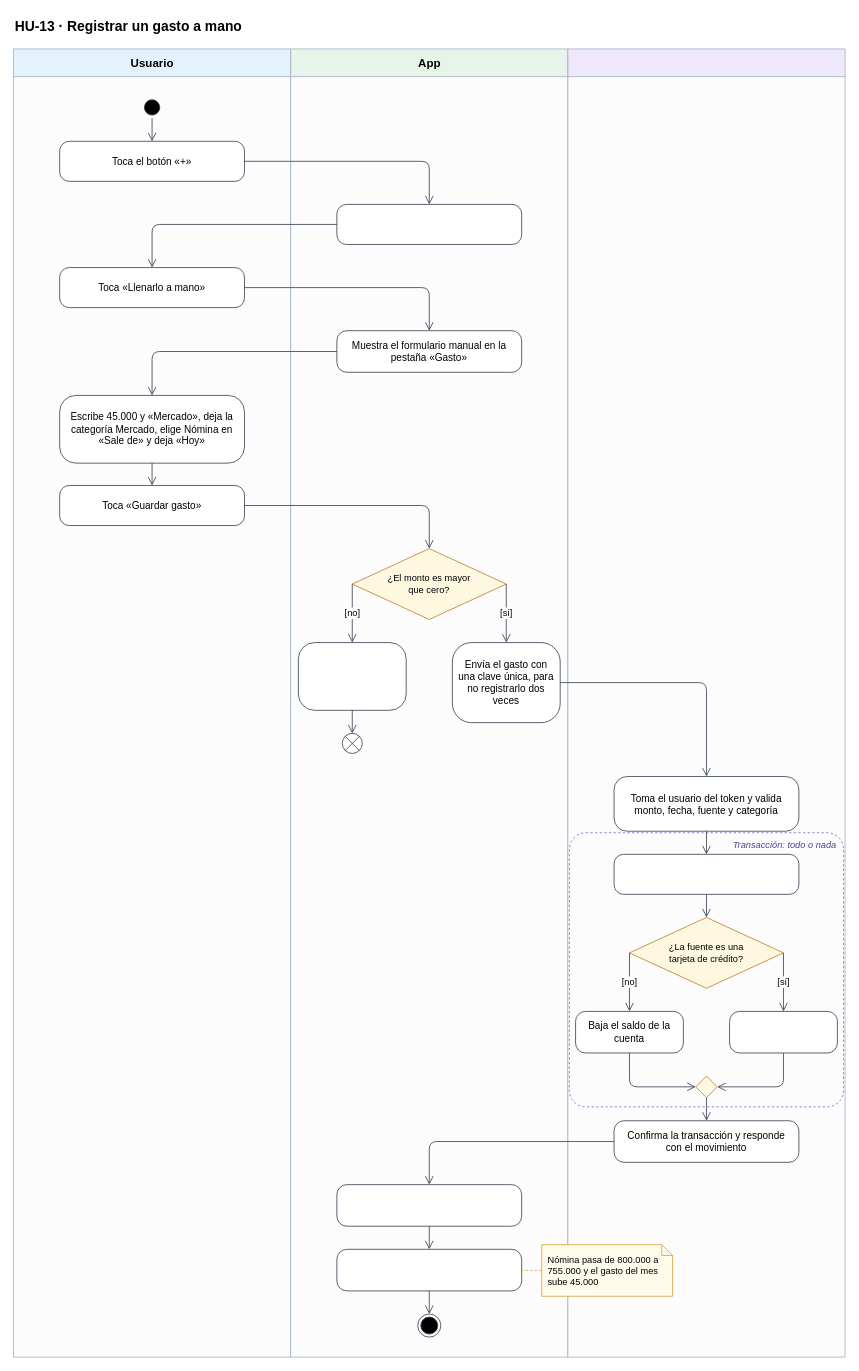
Some shapes in this 859 by 1371 pixel diagram are drawn without their labels. Each missing label, with the box of its shape:
Abre «¿Qué pasó?»: (336, 204, 522, 244)
Actualiza Inicio, Movimientos y saldos: (336, 1249, 522, 1291)
API: (567, 48, 845, 1357)
Guarda el movimiento: (613, 854, 799, 894)
Muestra «Gasto guardado» con la opción «Deshacer»: (336, 1184, 522, 1226)
No guarda y señala el monto: «Escribe un monto mayor que cero.»: (298, 642, 406, 710)
Sube la deuda de la tarjeta: (729, 1011, 837, 1053)
